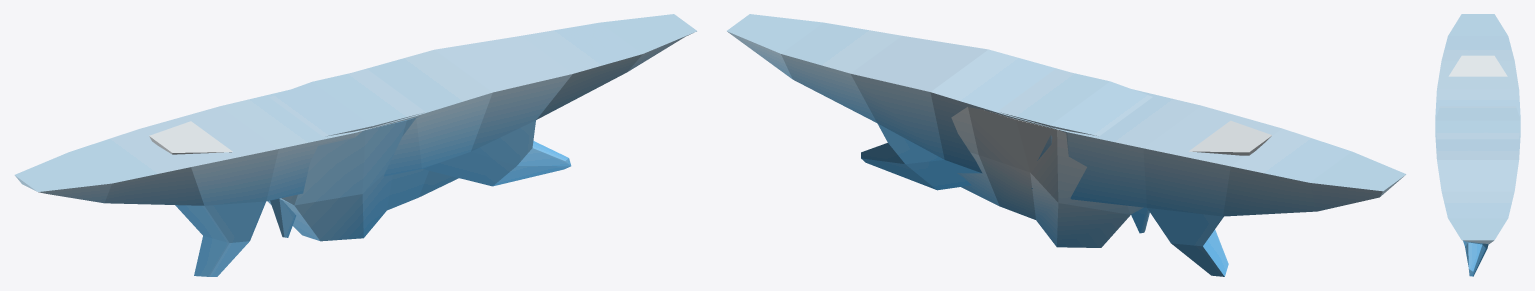
Rendered from IcePlattform.fbx.
3 views of the same model, side by side, from view 1: azimuth 30°, elevation 25°; view 2: azimuth 150°, elevation 25°; view 3: azimuth 270°, elevation 25° (orthographic). The views are drawn at different scales.
Parts seen in each view (by area): view 1: Platform 01, Platform 02, Platform 03; view 2: Platform 01, Platform 02, Platform 03; view 3: Platform 01, Platform 03, Platform 02.
Part boxes in pixels (x1=…): Platform 01: x1=14, y1=14, x2=697, y2=276; Platform 02: x1=149, y1=116, x2=458, y2=241; Platform 03: x1=269, y1=69, x2=425, y2=237; Platform 01: x1=727, y1=14, x2=1406, y2=276; Platform 02: x1=951, y1=107, x2=1271, y2=247; Platform 03: x1=997, y1=69, x2=1152, y2=233; Platform 01: x1=1435, y1=14, x2=1520, y2=276; Platform 03: x1=1435, y1=106, x2=1520, y2=139; Platform 02: x1=1448, y1=55, x2=1507, y2=76.
Size of the model in its own units: 18.74 by 3.87 by 2.98.
